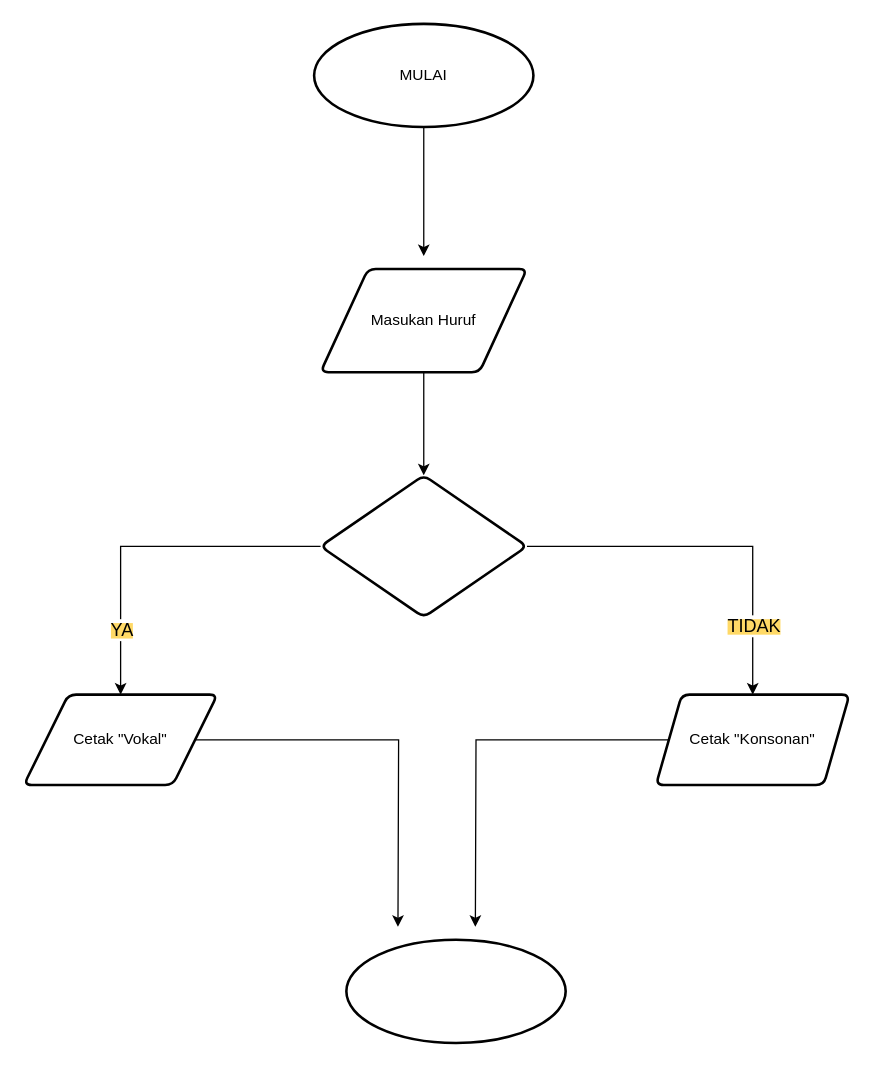
The diagram is 872 pixels wide and 1066 high, and some of its shapes have lost their labels. Here are the shapes that lost their labels. From the top down, the centre of each, then its label:
point (423, 545): Apakah a/i/u/e/o?
point (455, 991): SELESAI
